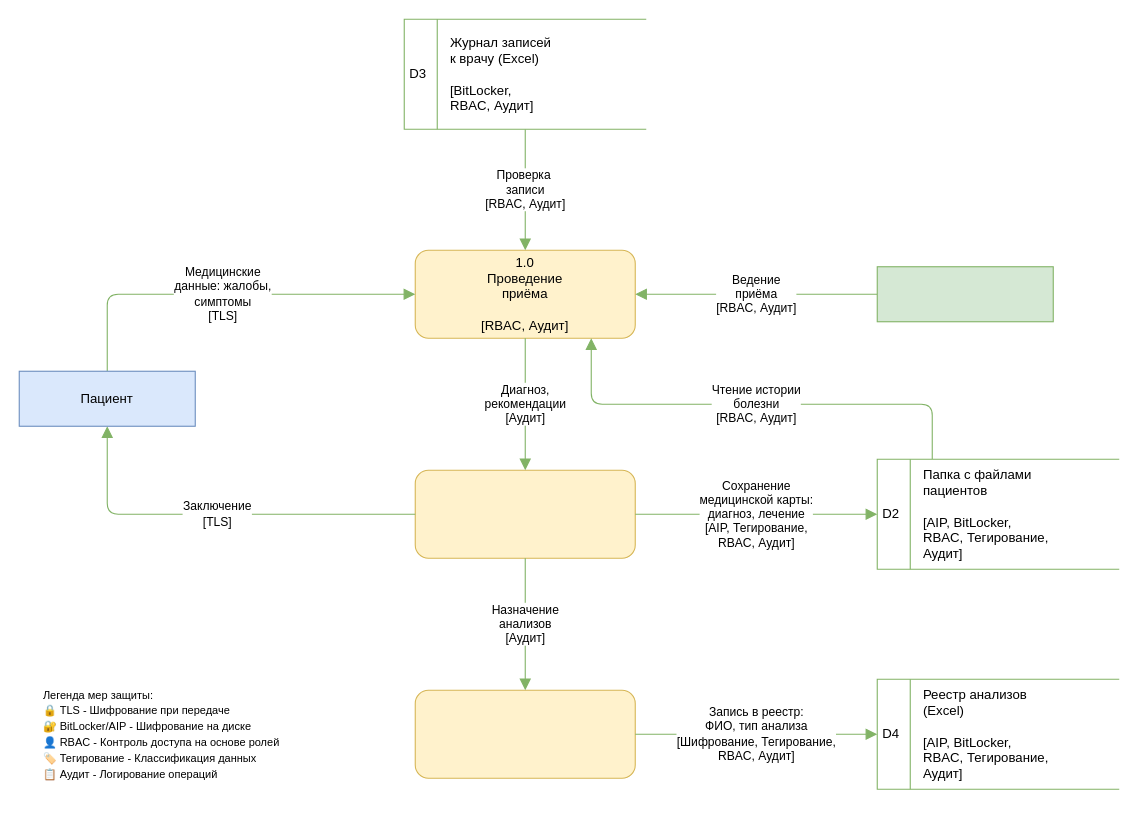
This 1139x820 diagram has some shape labels left out. The centre of each missing label's shape, as x and y in pixels:
"2.0 Заполнение медицинской карты [RBAC, Аудит]" belongs at point 524,513.
"3.0 Назначение анализов [Шифрование, Тегирование, RBAC, Аудит]" belongs at point 524,733.
"Врач" belongs at point 964,294.
